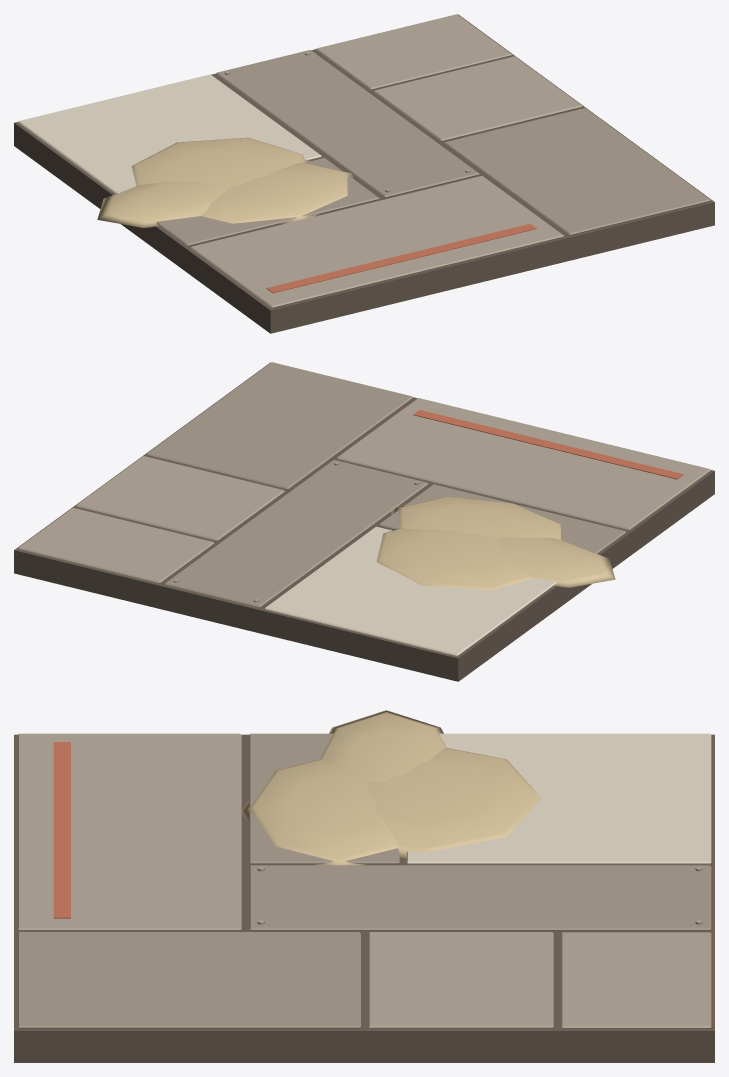
The model's file is floor_du_plate.glb.
3 views of the same model, one above another, from view 1: azimuth 30°, elevation 25°; view 2: azimuth 150°, elevation 25°; view 3: azimuth 270°, elevation 25° (orthographic). The views are drawn at different scales.
Visible parts, largest first — view 1: floor_du_plate; view 2: floor_du_plate; view 3: floor_du_plate.
Part boxes in pixels (x1=…): floor_du_plate: x1=14, y1=14, x2=714, y2=333; floor_du_plate: x1=14, y1=362, x2=714, y2=681; floor_du_plate: x1=14, y1=710, x2=714, y2=1062.
Size of the model in its own units: 4.33 by 0.2624 by 4.
